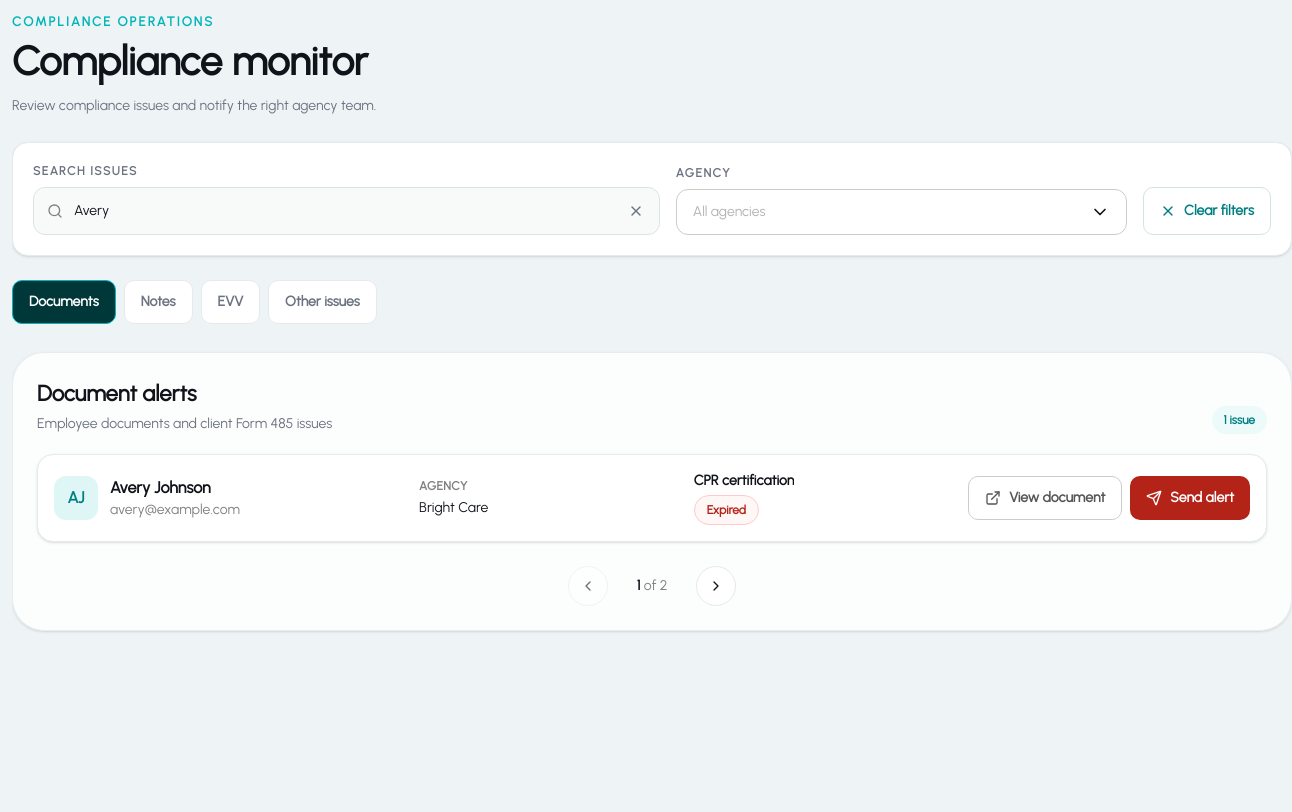
Test: ComplianceMonitor › uses compliance-owned active agency options even when the unrelated directory endpoint would be forbidden
Later steps or results of the test are not shown.
What coordinates should you click on to do the following:
click the button "All agencies"
I would click on:
 (729, 211)
Its box is [676,188,1127,234].
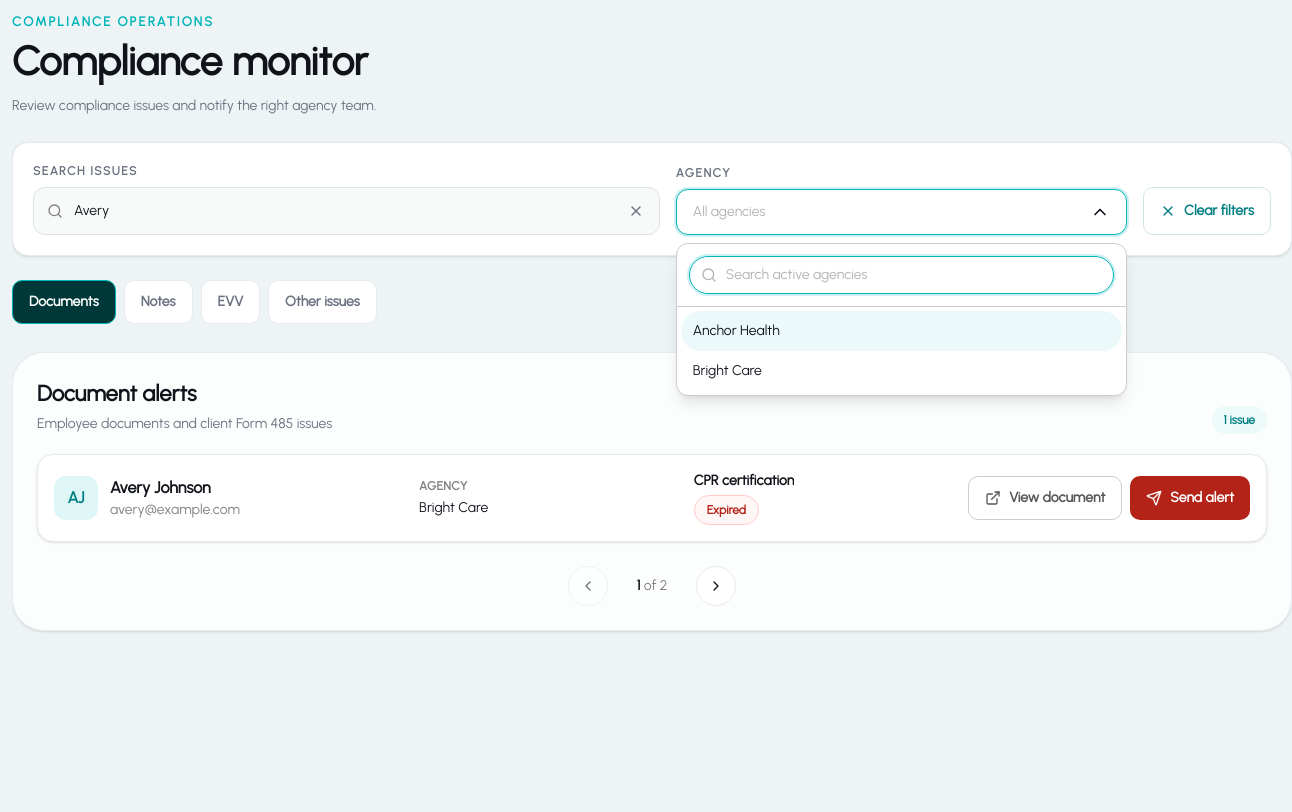
expect the button "Bright Care" is shown: met, box [681,350,1122,390]
expect the button "Anchor Health" is shown: met, box [681,310,1122,350]
